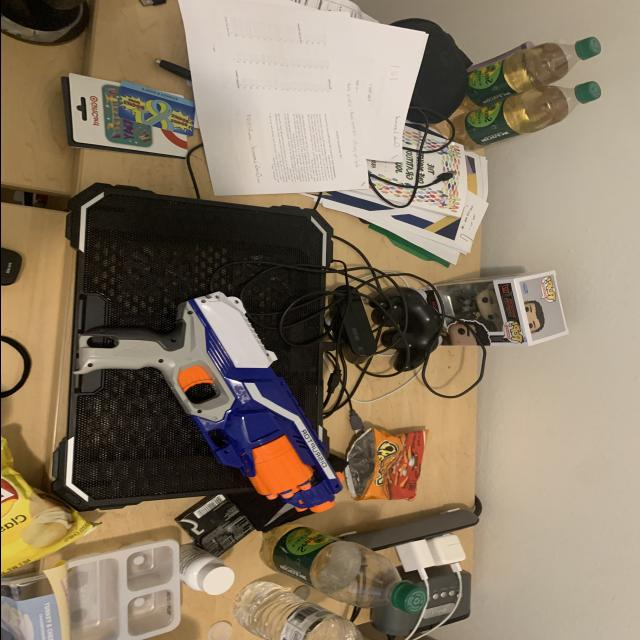nerf-maverik: (51, 280, 360, 522)
